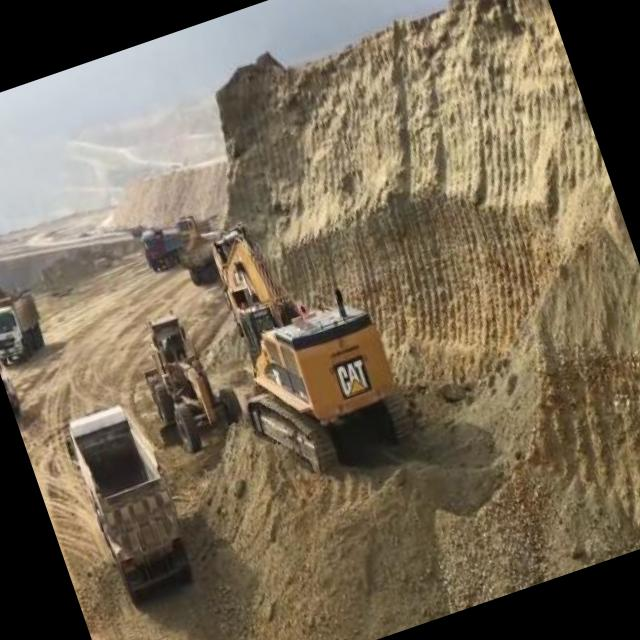Dump Truck: (54, 390, 204, 615), (0, 283, 52, 372), (172, 226, 230, 290), (138, 220, 188, 275)
Excavator: (184, 184, 422, 504)
